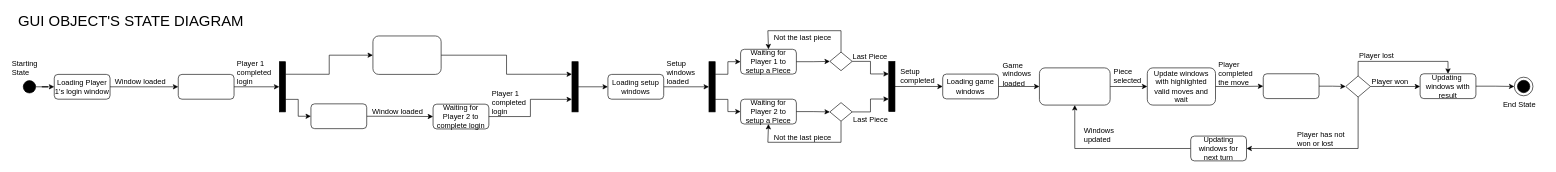
The diagram is 1556 pixels wide and 172 high, and some of its shapes have lost their labels. Each missing label, with the centre of its shape:
Loading Player 2's login window: [338,116]
Showing new "waiting for opponent" window to Player 1: [406,54]
Updating windows: [1291,86]
Waiting for Player 1 to complete login: [206,86]
Waiting for player to click on the Piece to move: [1074,86]
